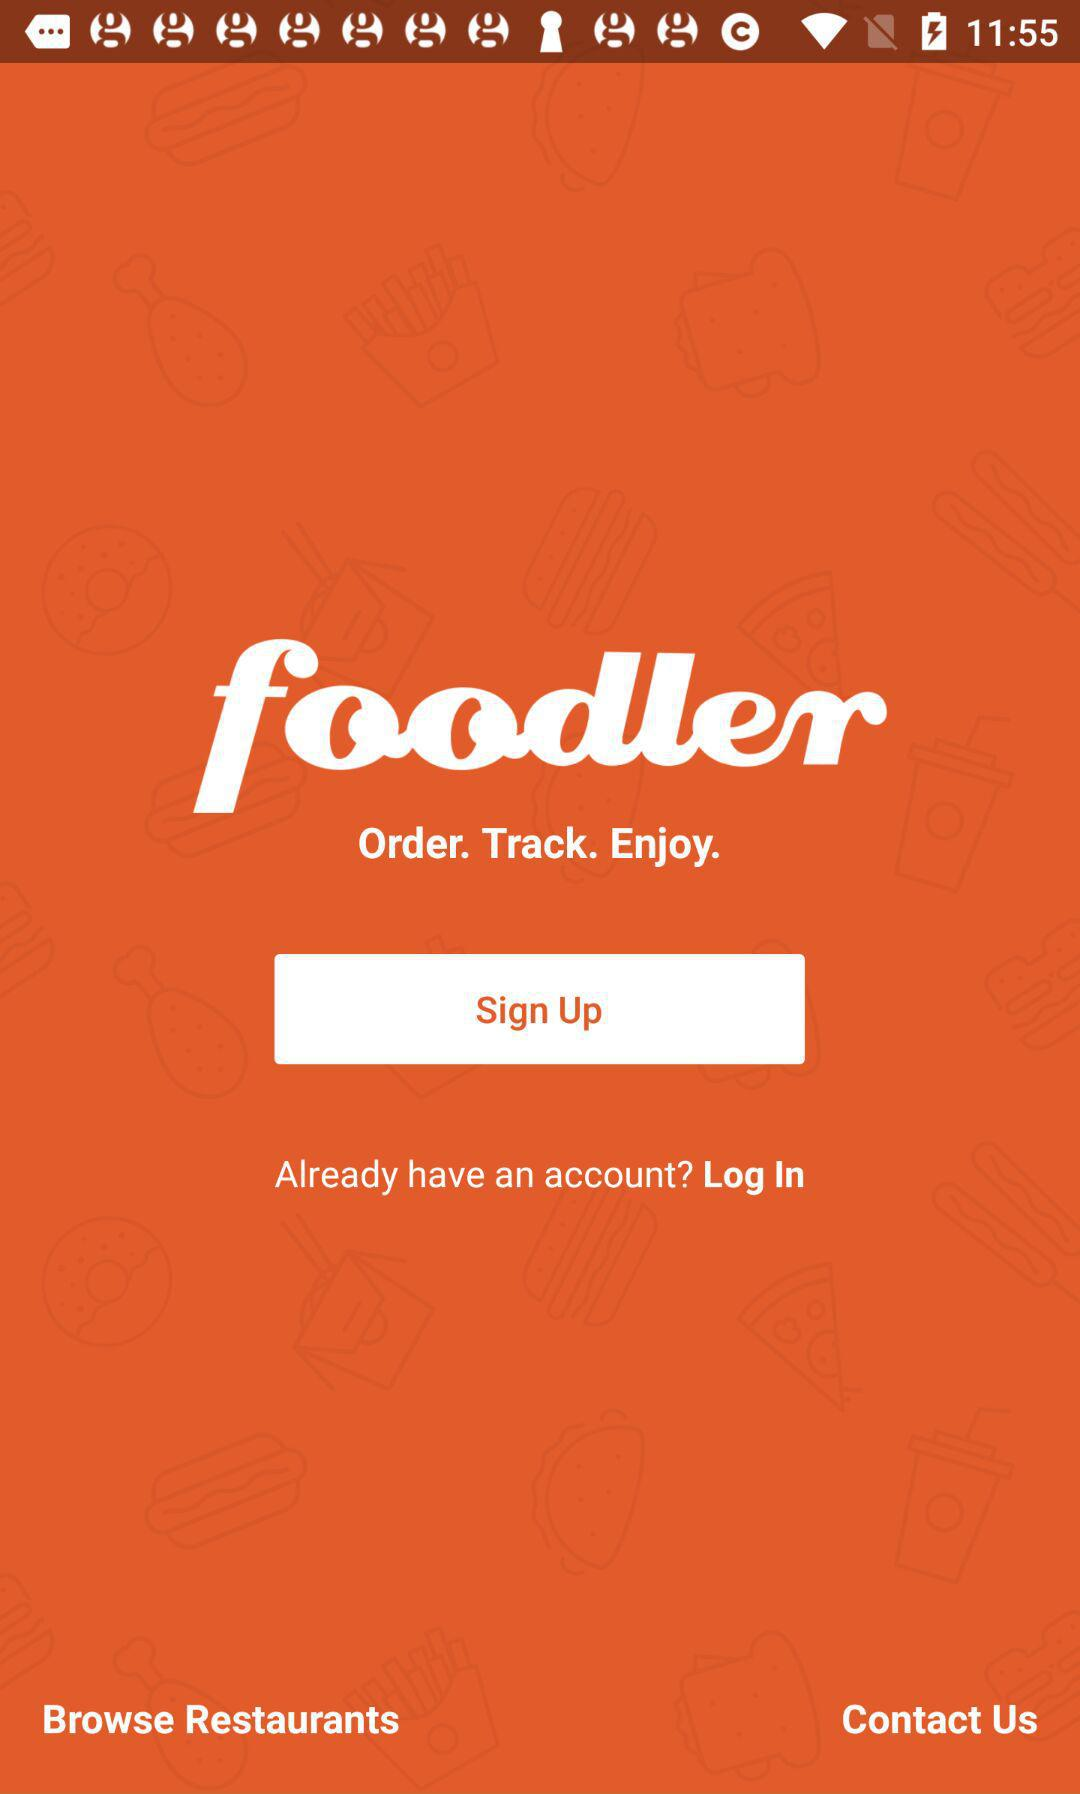Image: (192, 639, 890, 812)
Text: (274, 1158, 806, 1198), (359, 824, 739, 868), (44, 1703, 401, 1736), (842, 1704, 1039, 1738)
TextButton: (274, 953, 806, 1065)
UpperTaskBar: (1, 1, 1080, 64)
